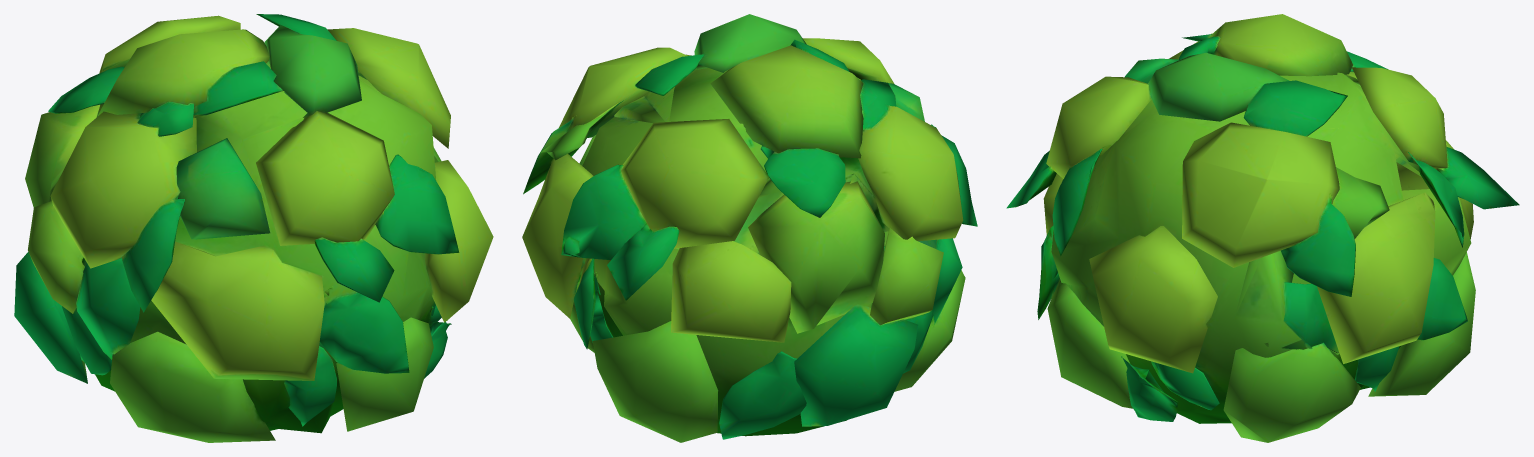
The picture shows the model from 3 angles, left to right: view 1: azimuth 30°, elevation 25°; view 2: azimuth 150°, elevation 25°; view 3: azimuth 270°, elevation 25°; orthographic projection. The views are drawn at different scales.
Visible parts, largest first — view 1: tripo_node_c57b7664-9b41-48e3-91d2-1d1a1321ba8f; view 2: tripo_node_c57b7664-9b41-48e3-91d2-1d1a1321ba8f; view 3: tripo_node_c57b7664-9b41-48e3-91d2-1d1a1321ba8f.
Boxes of the visible parts, x1,y1,x2,y2 form: tripo_node_c57b7664-9b41-48e3-91d2-1d1a1321ba8f: (14,14,493,442); tripo_node_c57b7664-9b41-48e3-91d2-1d1a1321ba8f: (522,14,977,442); tripo_node_c57b7664-9b41-48e3-91d2-1d1a1321ba8f: (1006,14,1519,442).
Bounding box in the file's own units: 0.2289 × 0.2 × 0.2651.
1 material, 1 textured.
